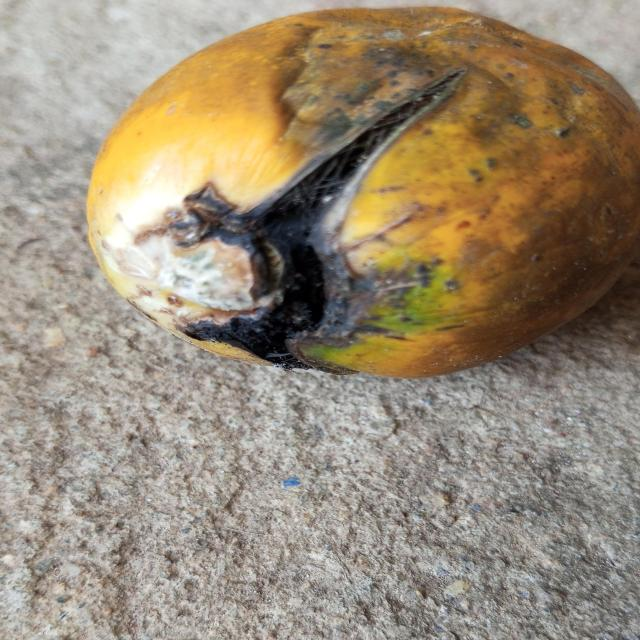damaged: (87, 9, 640, 377)
